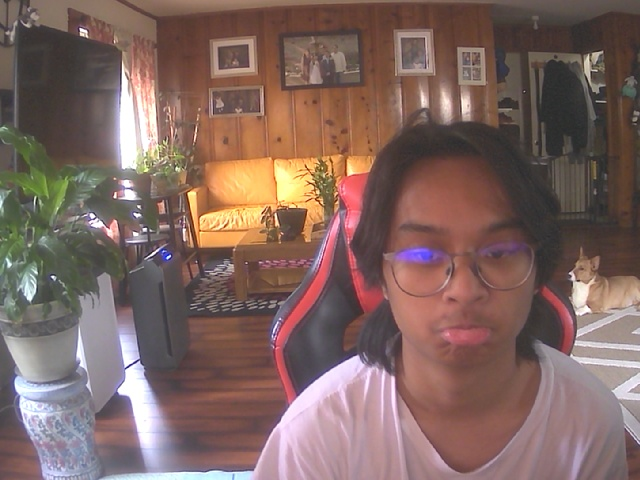sad: (375, 131, 548, 373)
